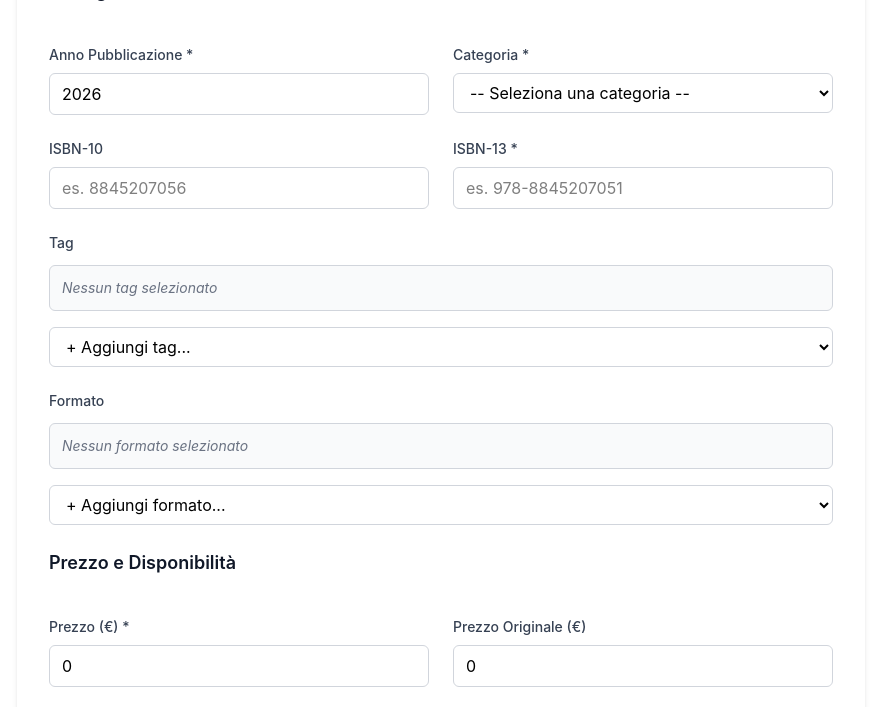
Test: BookForm › allows adding tags from dropdown
(page scrolled)
# Seleziona un tag dal dropdown
Select "Fantasy" in the dropdown showing "+ Aggiungi tag..." below "Nessun tag selezionato" at (441, 347), box [49,327,833,367]
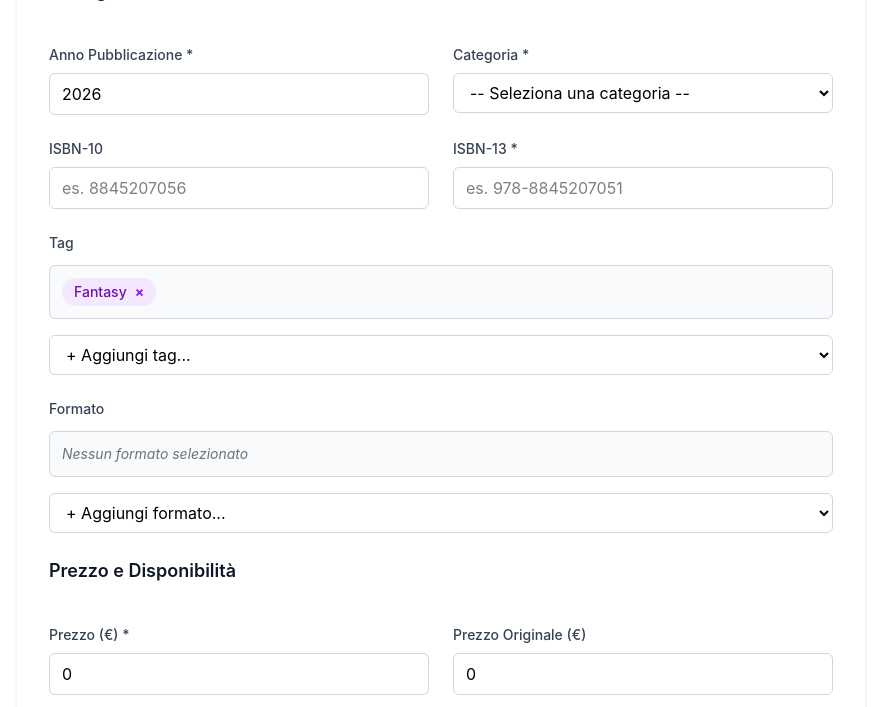
expect the text "Fantasy" is shown: met, box [74,283,127,300]
expect the button "×" is shown: met, box [135,282,144,302]
